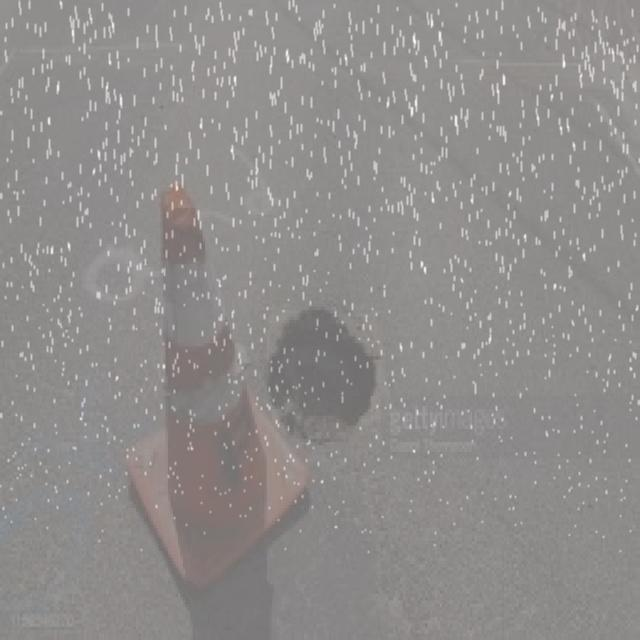Pothole: (255, 302, 382, 456)
